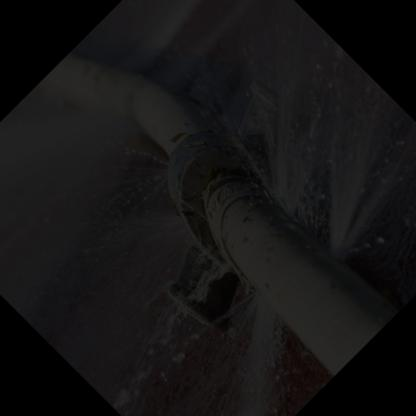burst: (159, 154, 343, 343)
